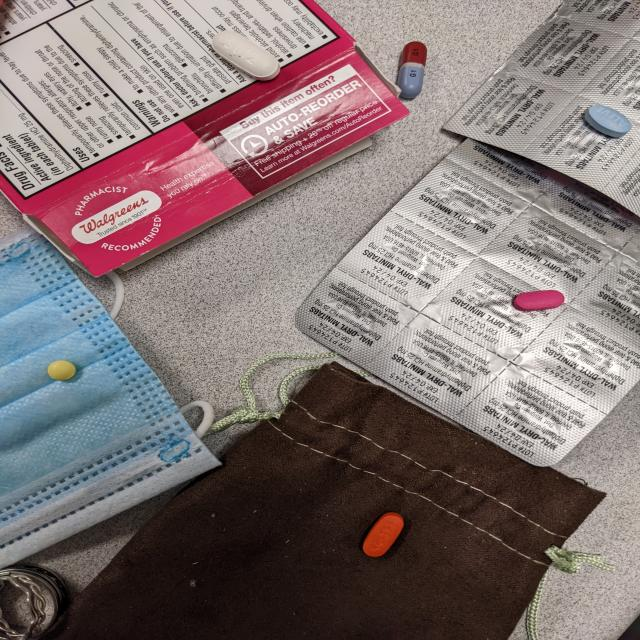non-organic waste: (211, 30, 281, 81), (362, 511, 406, 558), (396, 40, 428, 100), (582, 104, 633, 138), (512, 289, 565, 313), (46, 360, 78, 382)
